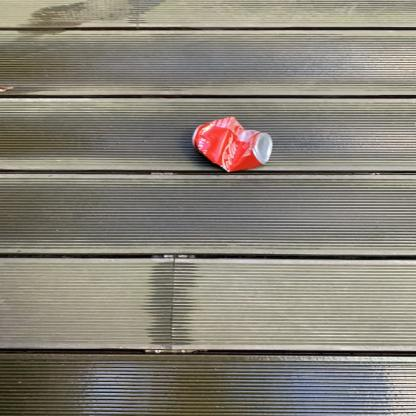Aerosols: (184, 108, 286, 180)
